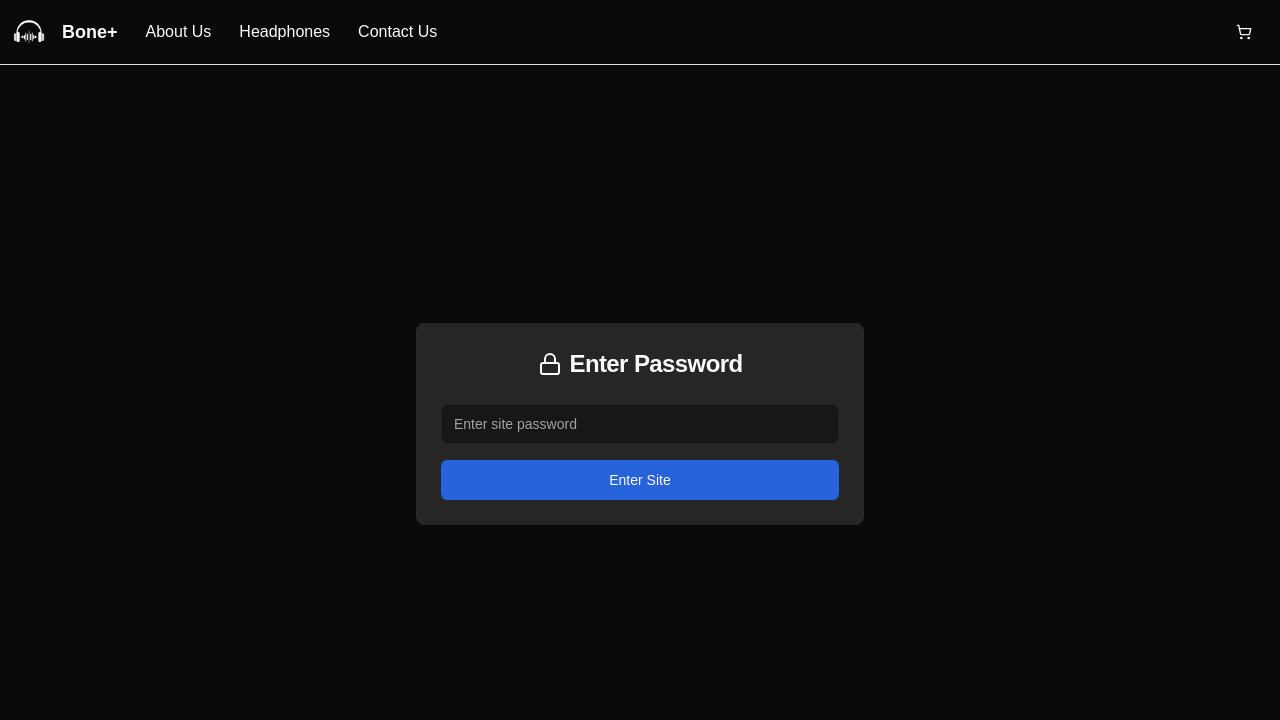
Test: Authentication Flows › Admin Authentication › should reject invalid admin credentials
The width and height of the screenshot is (1280, 720).
Step 1. Type "mypassword" into the password field with placeholder "Enter site password" → (640,424), box [441,404,839,444]
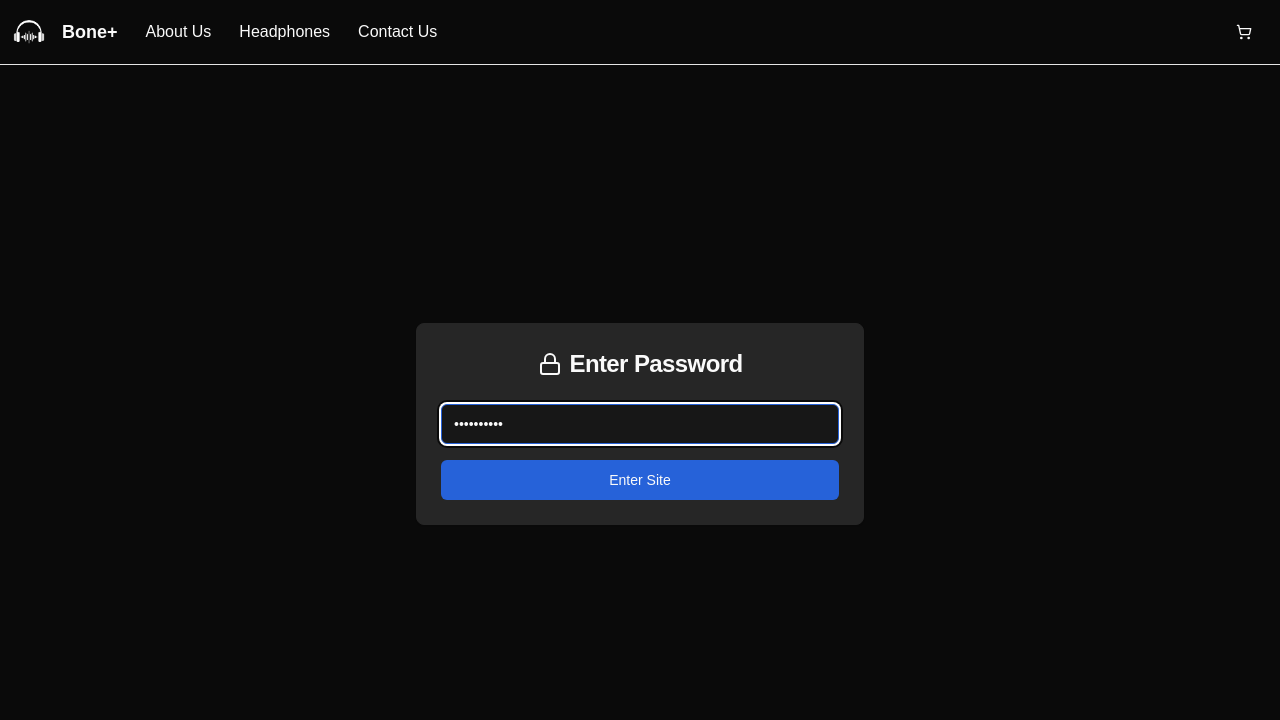
Step 2. Click the button "Enter Site" → (640,480), box [441,460,839,500]
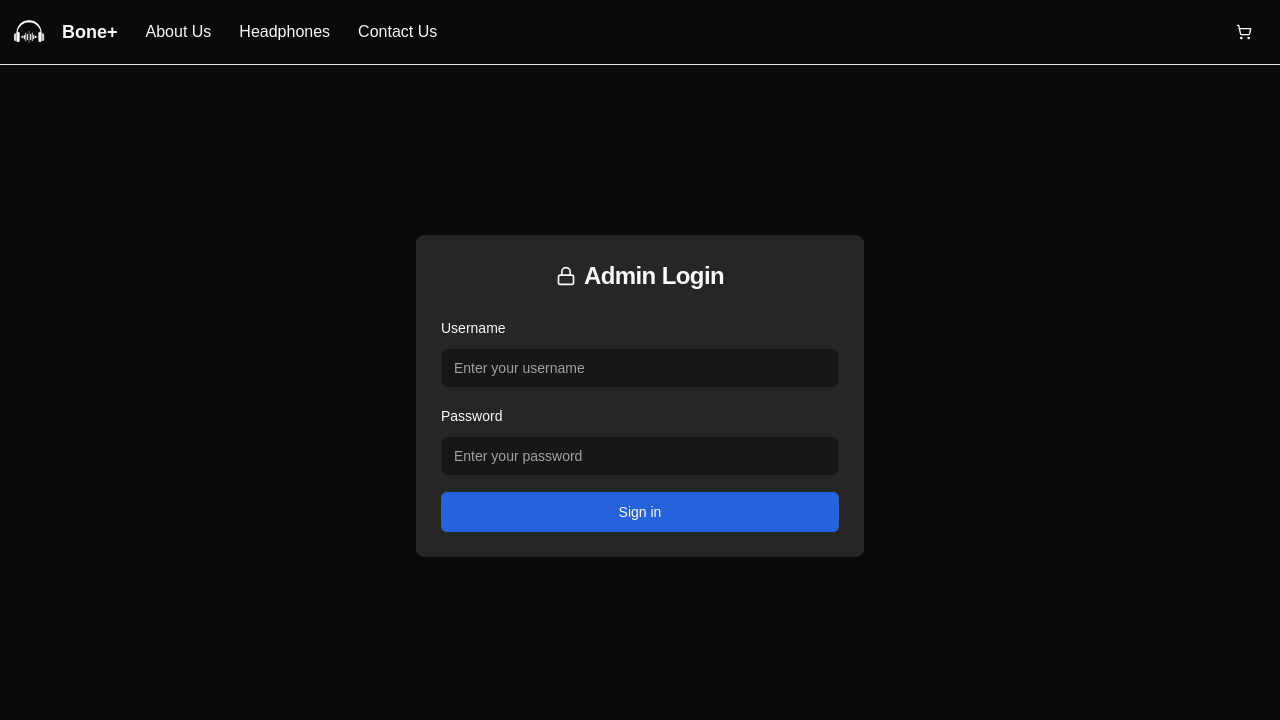
Step 3. Type "admin" into the field with id "username" → (640,368), box [441,348,839,388]
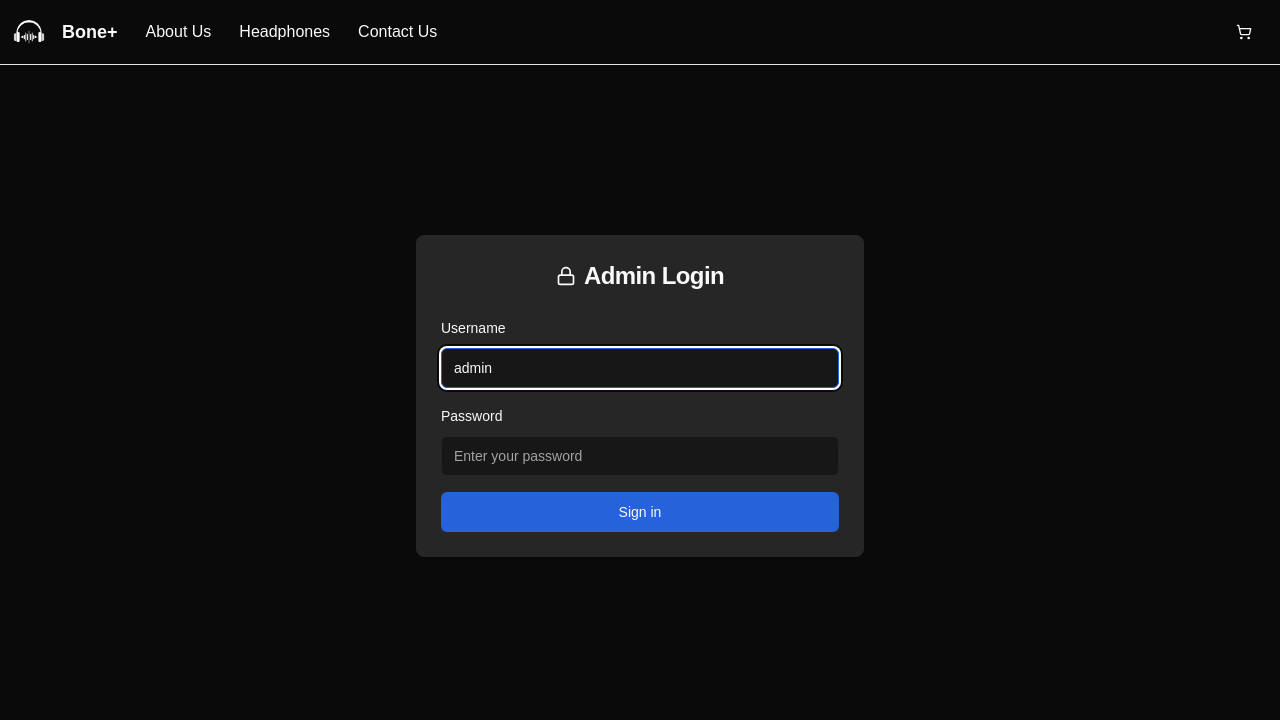
Step 4. Type "wrongpassword" into the password field labelled "Password" → (640,456), box [441,436,839,476]
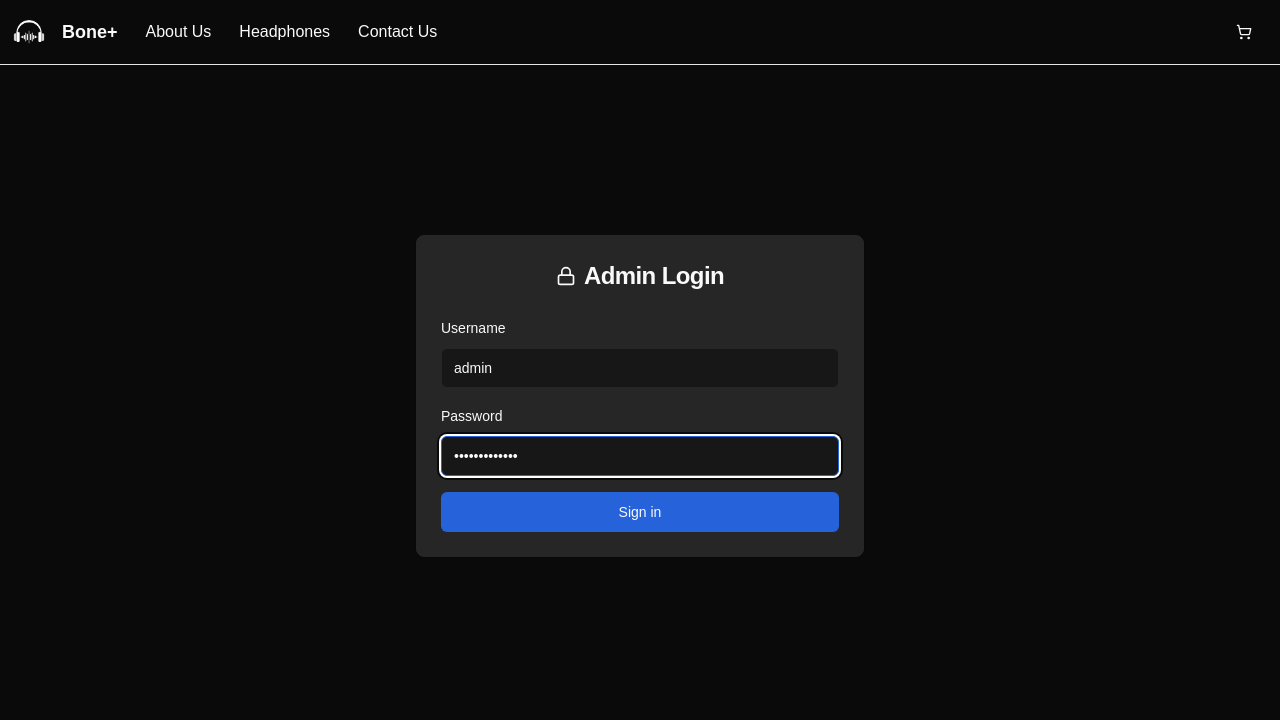
Step 5. Click the submit button → (640,512), box [441,492,839,532]
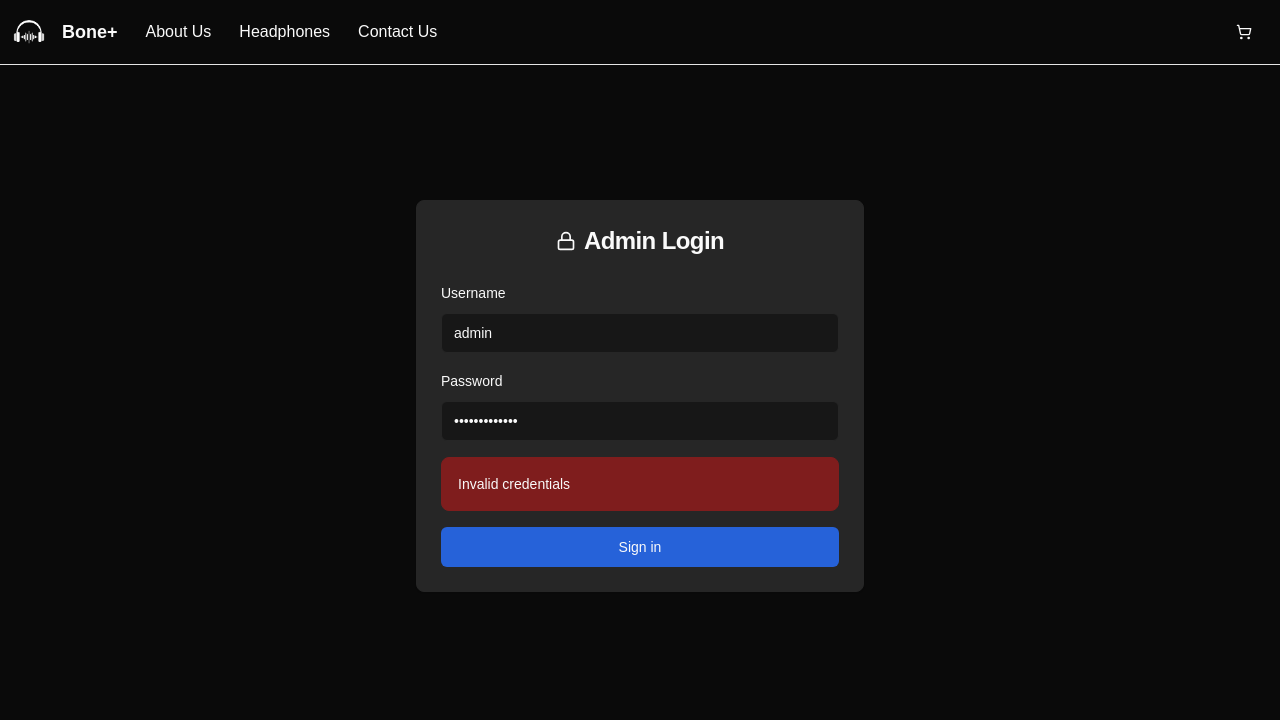
Expected: the text "Invalid credentials" is shown, [458,476,570,492]
